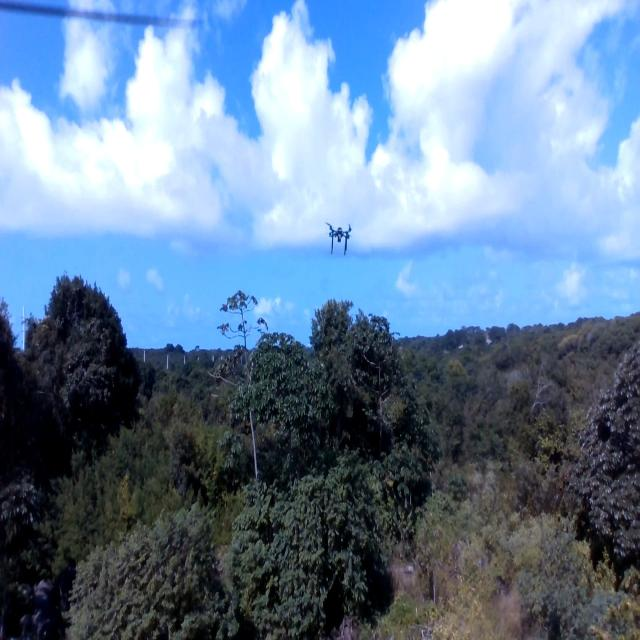-uav-: (324, 218, 354, 268)
